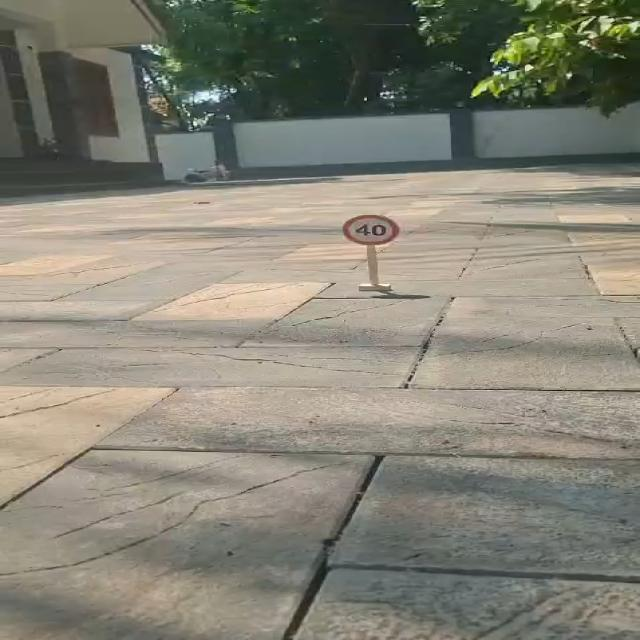Speed40: (340, 213, 402, 247)
